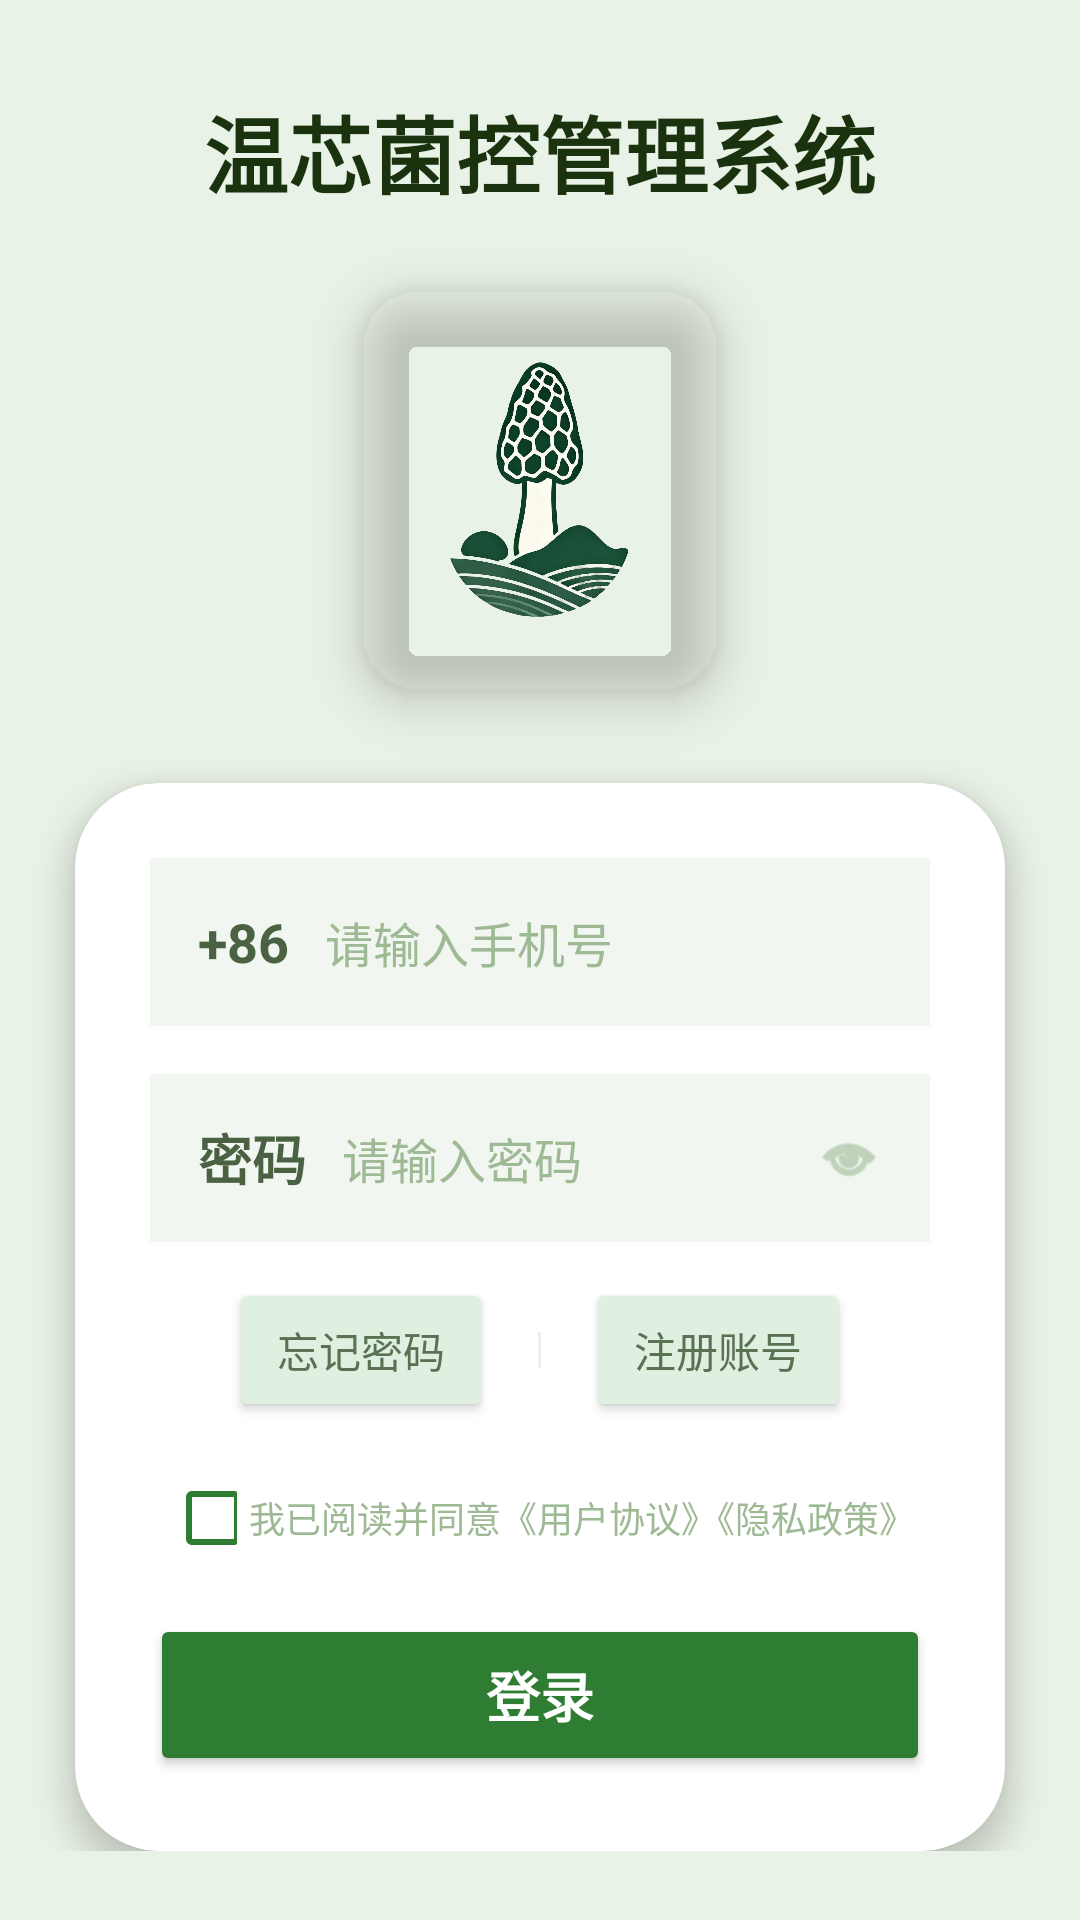

Named icons in this screenshot (1080*1920) and their bounding boxes, [x1,y1,x2,y2]:
view: [823,1143,875,1176]
